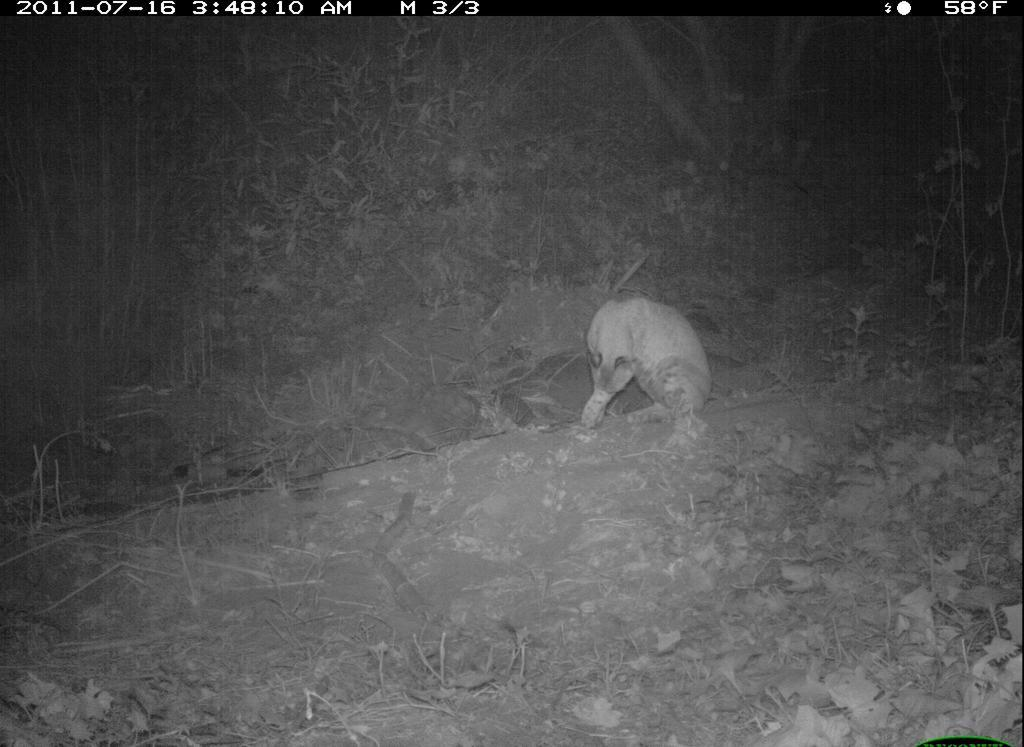bobcat: (574, 276, 725, 460)
